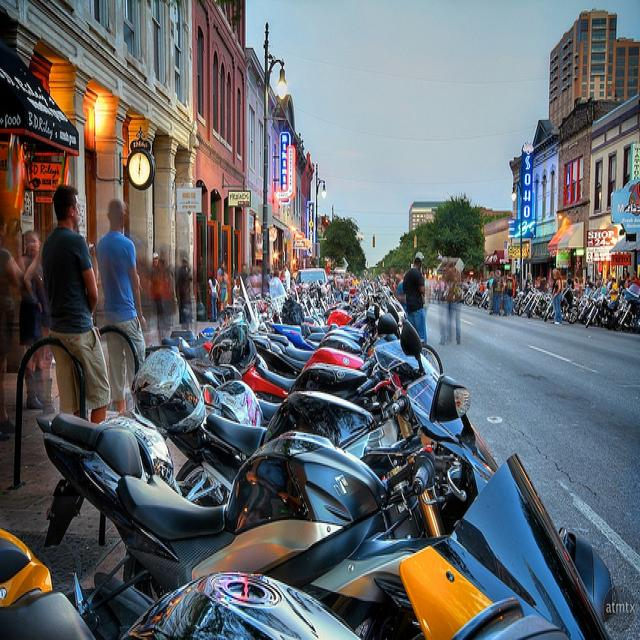motor: (37, 374, 500, 640), (0, 449, 614, 640), (170, 346, 455, 497), (268, 280, 592, 351), (254, 338, 402, 416), (243, 343, 374, 408), (376, 281, 443, 375), (257, 329, 377, 361), (304, 287, 374, 333), (325, 282, 374, 320), (584, 292, 622, 330), (613, 283, 640, 331), (528, 291, 546, 318)
